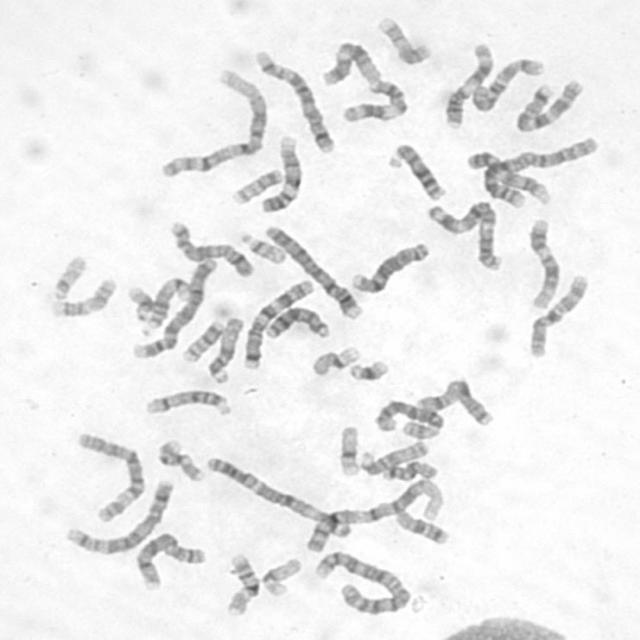A1: (154, 63, 270, 179), (300, 473, 446, 556)
A2: (476, 132, 602, 210), (307, 546, 412, 616)
A3: (199, 451, 353, 540), (422, 196, 504, 272)
B4: (260, 219, 364, 320), (128, 251, 219, 362)
B5: (250, 45, 338, 155), (61, 474, 176, 555)
C10: (522, 269, 590, 359), (466, 52, 546, 113)
C11: (439, 38, 495, 130), (336, 74, 409, 125)
C12: (523, 214, 562, 311), (316, 37, 384, 87)
C6: (71, 427, 147, 523), (370, 394, 446, 440)
C7: (238, 274, 316, 370), (510, 75, 586, 133)
C8: (130, 528, 208, 592), (346, 238, 431, 295)
C9: (462, 147, 552, 206), (257, 130, 303, 214)
D13: (386, 139, 448, 202), (260, 302, 332, 341)
D14: (137, 272, 193, 335), (140, 384, 233, 418)
D15: (202, 313, 246, 384), (353, 436, 430, 476)
E16: (219, 549, 262, 617), (152, 435, 206, 483)
E17: (45, 272, 118, 319), (372, 11, 434, 66)
E18: (389, 505, 451, 547), (378, 456, 440, 483)
F19: (305, 342, 362, 378), (332, 420, 362, 478)
F20: (226, 164, 284, 206), (177, 316, 226, 363)
G21: (122, 281, 154, 324), (344, 354, 390, 383)
G22: (234, 227, 289, 266), (47, 249, 88, 301)
X: (163, 216, 256, 279), (412, 373, 495, 428)
